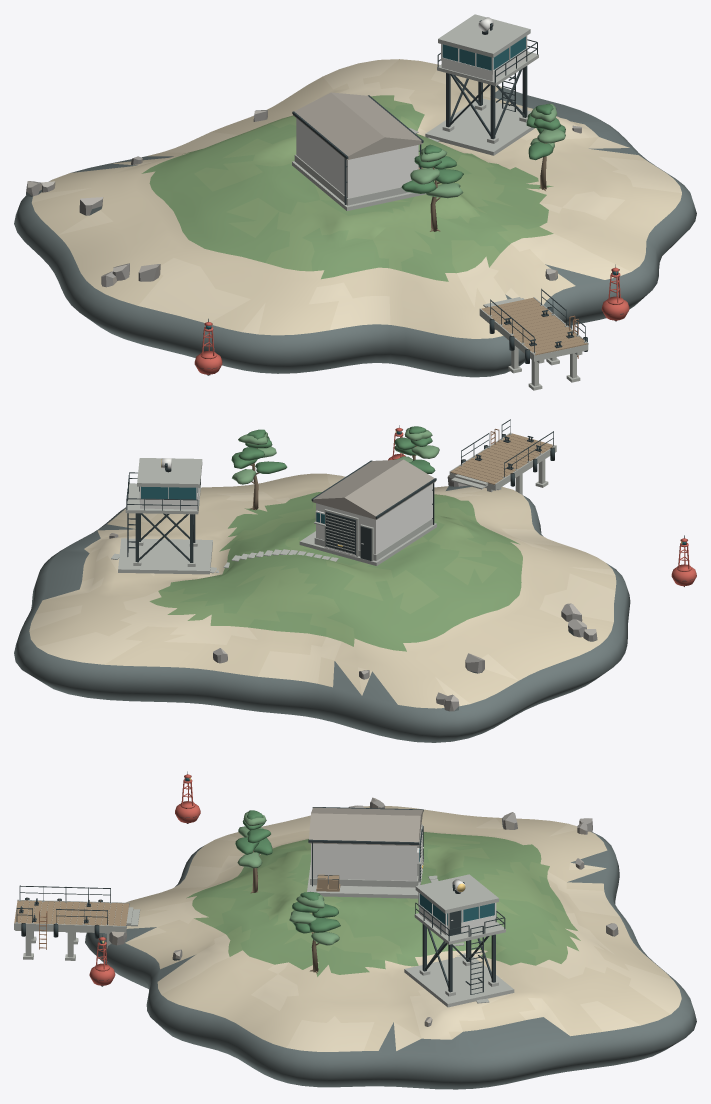
The model's file is ENV_HarborIsland_LOD1.fbx.
The picture shows the model from 3 angles, top to bottom: view 1: azimuth 30°, elevation 25°; view 2: azimuth 150°, elevation 25°; view 3: azimuth 270°, elevation 25°; orthographic projection. The views are drawn at different scales.
Parts seen in each view (by area): view 1: TerrainShell, ENV_SupplyDepot_0_Visual, ENV_WatchPost_1_Visual, ENV_Jetty_4_Visual, ENV_CoastalPine_3_Visual, Decor_Visual, ENV_CoastalPine_2_Visual, ENV_NavigationBuoy_5_Visual, ENV_NavigationBuoy_6_Visual; view 2: TerrainShell, ENV_SupplyDepot_0_Visual, ENV_WatchPost_1_Visual, ENV_Jetty_4_Visual, Decor_Visual, ENV_CoastalPine_2_Visual, ENV_CoastalPine_3_Visual, ENV_NavigationBuoy_5_Visual; view 3: TerrainShell, ENV_SupplyDepot_0_Visual, ENV_WatchPost_1_Visual, ENV_Jetty_4_Visual, ENV_CoastalPine_2_Visual, ENV_CoastalPine_3_Visual, Decor_Visual, ENV_NavigationBuoy_6_Visual, ENV_NavigationBuoy_5_Visual.
Part boxes in pixels (box(x1,y1,x2,y2)): TerrainShell: box(14, 59, 696, 377); ENV_SupplyDepot_0_Visual: box(292, 92, 426, 210); ENV_WatchPost_1_Visual: box(425, 14, 538, 155); ENV_Jetty_4_Visual: box(479, 288, 588, 390); ENV_CoastalPine_3_Visual: box(401, 144, 463, 231); Decor_Visual: box(26, 106, 581, 287); ENV_CoastalPine_2_Visual: box(526, 103, 565, 190); ENV_NavigationBuoy_5_Visual: box(194, 318, 222, 375); ENV_NavigationBuoy_6_Visual: box(601, 264, 629, 321); TerrainShell: box(14, 473, 630, 742); ENV_SupplyDepot_0_Visual: box(299, 459, 436, 565); ENV_WatchPost_1_Visual: box(118, 458, 212, 574); ENV_Jetty_4_Visual: box(449, 419, 556, 496); Decor_Visual: box(109, 475, 597, 711); ENV_CoastalPine_2_Visual: box(231, 429, 287, 510); ENV_CoastalPine_3_Visual: box(394, 426, 439, 473); ENV_NavigationBuoy_5_Visual: box(671, 535, 696, 586); TerrainShell: box(85, 806, 696, 1089); ENV_SupplyDepot_0_Visual: box(307, 807, 423, 898); ENV_WatchPost_1_Visual: box(404, 874, 514, 1007); ENV_Jetty_4_Visual: box(14, 885, 140, 961); ENV_CoastalPine_2_Visual: box(289, 891, 340, 973); ENV_CoastalPine_3_Visual: box(235, 810, 272, 893); Decor_Visual: box(109, 797, 618, 1026); ENV_NavigationBuoy_6_Visual: box(89, 934, 115, 986); ENV_NavigationBuoy_5_Visual: box(175, 771, 200, 823).
Bounding box in the file's own units: 3298 × 933 × 3649.
